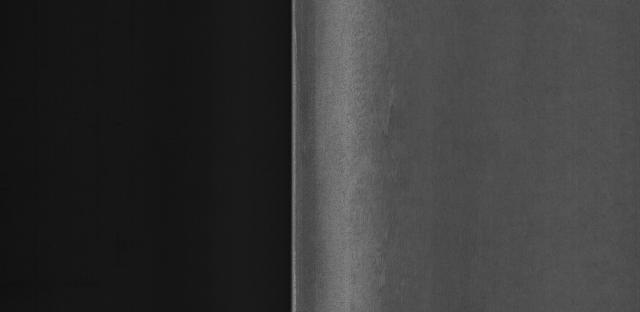silk_spot: (343, 30, 422, 305)
